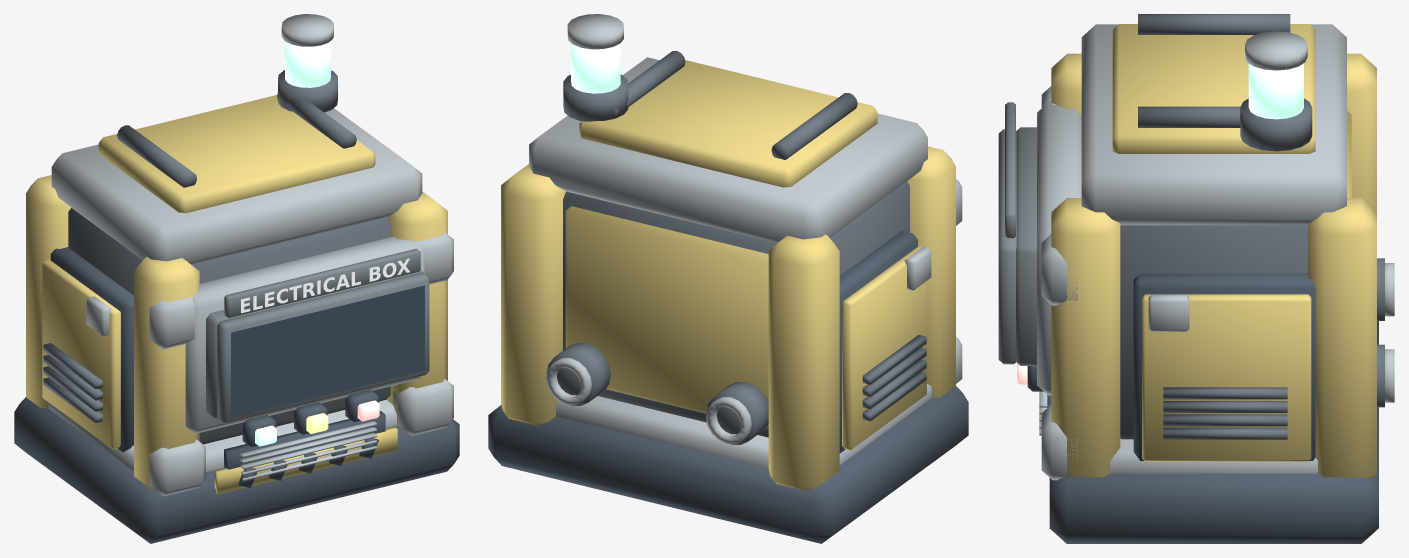
Rendered from electrical_box_standard.glb.
The picture shows the model from 3 angles, left to right: view 1: azimuth 30°, elevation 25°; view 2: azimuth 150°, elevation 25°; view 3: azimuth 270°, elevation 25°; orthographic projection. The views are drawn at different scales.
Visible parts, largest first — view 1: TopCap_steel_legacy_10, Base_black_legacy_0, Frame_yellow_legacy_4, RoofPanel_yellow_legacy_11, LiveViewSurface_glass, CornerGuard_steel_legacy_5, Housing_dark_legacy_2, ServiceDoor_yellow_legacy_7, DisplayFrame_steel_legacy_13, LiveViewSurfaceFrame_frame, TypePlate_frame, SidePanel_black_legacy_6 (+13 smaller); view 2: Frame_yellow_legacy_4, Armor_yellow_legacy_3, Base_black_legacy_0, TopCap_steel_legacy_10, RoofPanel_yellow_legacy_11, ServiceDoor_yellow_legacy_7, Housing_dark_legacy_2, Skirt_steel_legacy_1, RearPort_dark_legacy_29, LiftRail_dark_legacy_12, SideVents_dark_legacy_8, SidePanel_black_legacy_6 (+6 smaller); view 3: Frame_yellow_legacy_4, TopCap_steel_legacy_10, Base_black_legacy_0, ServiceDoor_yellow_legacy_7, RoofPanel_yellow_legacy_11, Housing_dark_legacy_2, DisplayFrame_steel_legacy_13, SideVents_dark_legacy_8, SidePanel_black_legacy_6, LiftRail_dark_legacy_12, ScreenMount_frame, CornerGuard_steel_legacy_5 (+9 smaller).
Boxes of the visible parts, bbox=[...] form: TopCap_steel_legacy_10: bbox=[51, 108, 422, 264]; Base_black_legacy_0: bbox=[14, 397, 459, 543]; Frame_yellow_legacy_4: bbox=[26, 175, 447, 491]; RoofPanel_yellow_legacy_11: bbox=[98, 95, 375, 213]; LiveViewSurface_glass: bbox=[231, 285, 424, 417]; CornerGuard_steel_legacy_5: bbox=[149, 232, 453, 496]; Housing_dark_legacy_2: bbox=[68, 208, 390, 444]; ServiceDoor_yellow_legacy_7: bbox=[42, 260, 120, 449]; DisplayFrame_steel_legacy_13: bbox=[185, 236, 424, 433]; LiveViewSurfaceFrame_frame: bbox=[217, 272, 429, 423]; TypePlate_frame: bbox=[224, 248, 420, 318]; SidePanel_black_legacy_6: bbox=[50, 247, 133, 452]; Frame_yellow_legacy_4: bbox=[501, 146, 955, 490]; Armor_yellow_legacy_3: bbox=[565, 206, 768, 428]; Base_black_legacy_0: bbox=[488, 386, 968, 543]; TopCap_steel_legacy_10: bbox=[529, 57, 927, 242]; RoofPanel_yellow_legacy_11: bbox=[579, 60, 877, 187]; ServiceDoor_yellow_legacy_7: bbox=[842, 246, 926, 450]; Housing_dark_legacy_2: bbox=[563, 181, 909, 437]; Skirt_steel_legacy_1: bbox=[556, 384, 931, 468]; RearPort_dark_legacy_29: bbox=[546, 343, 768, 444]; LiftRail_dark_legacy_12: bbox=[615, 51, 857, 159]; SideVents_dark_legacy_8: bbox=[862, 335, 926, 421]; SidePanel_black_legacy_6: bbox=[839, 231, 917, 453]; Frame_yellow_legacy_4: bbox=[1051, 53, 1376, 478]; TopCap_steel_legacy_10: bbox=[1081, 24, 1346, 225]; Base_black_legacy_0: bbox=[1049, 321, 1378, 543]; ServiceDoor_yellow_legacy_7: bbox=[1142, 294, 1311, 461]; RoofPanel_yellow_legacy_11: bbox=[1112, 24, 1315, 153]; Housing_dark_legacy_2: bbox=[1120, 225, 1307, 439]; DisplayFrame_steel_legacy_13: bbox=[1037, 102, 1081, 395]; SideVents_dark_legacy_8: bbox=[1163, 387, 1287, 439]; SidePanel_black_legacy_6: bbox=[1133, 273, 1315, 460]; LiftRail_dark_legacy_12: bbox=[1138, 14, 1290, 127]; ScreenMount_frame: bbox=[1016, 127, 1036, 365]; CornerGuard_steel_legacy_5: bbox=[1041, 86, 1077, 480].
Bounding box in the file's own units: 1.43 × 1.65 × 1.27.
